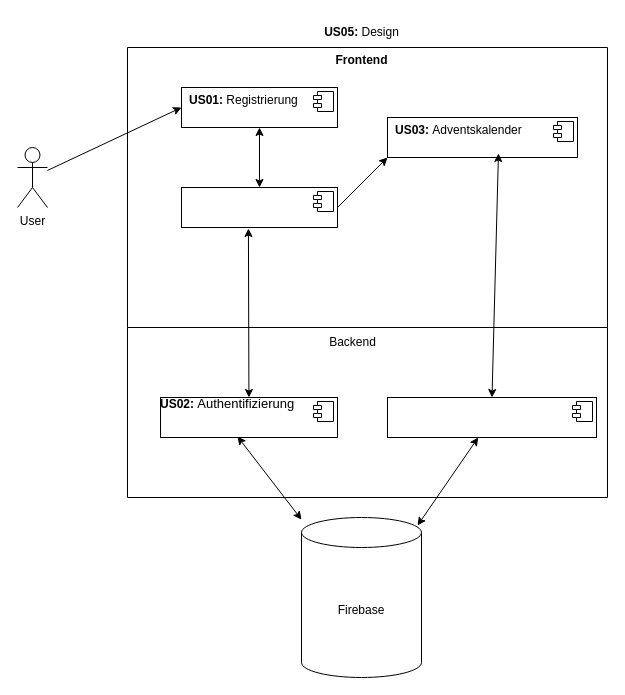
Some shapes in this 625 by 695 pixel diagram are drawn without their labels. Each missing label, with the centre of its shape:
"US02: Login" belongs at [259,207].
"US04: Geschenk / Nachrichten" belongs at [491,417].
